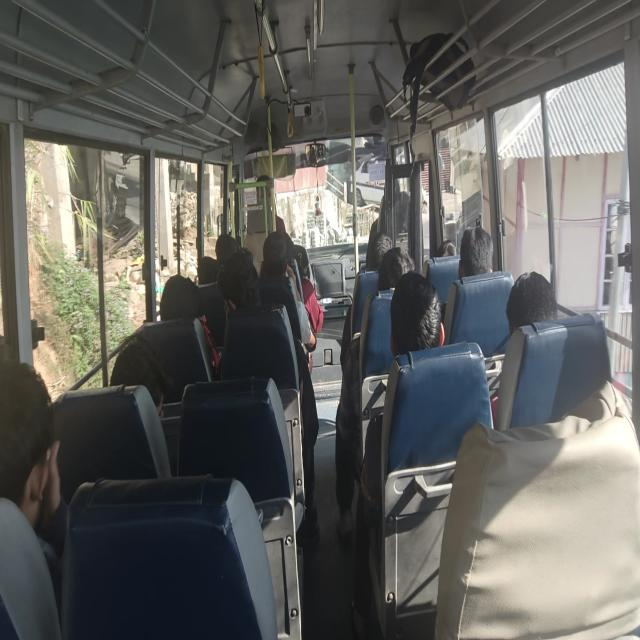person: (434, 379, 639, 639), (352, 270, 446, 636), (216, 246, 320, 535), (335, 240, 416, 536), (0, 358, 67, 638), (488, 270, 557, 424), (258, 231, 316, 368), (340, 231, 393, 371), (159, 274, 221, 374), (110, 332, 174, 418), (390, 270, 445, 356), (505, 270, 557, 334), (216, 247, 261, 314), (197, 232, 238, 284), (159, 274, 202, 320), (458, 225, 493, 278), (377, 245, 415, 290), (366, 231, 393, 271), (215, 232, 238, 263), (438, 240, 457, 256)
